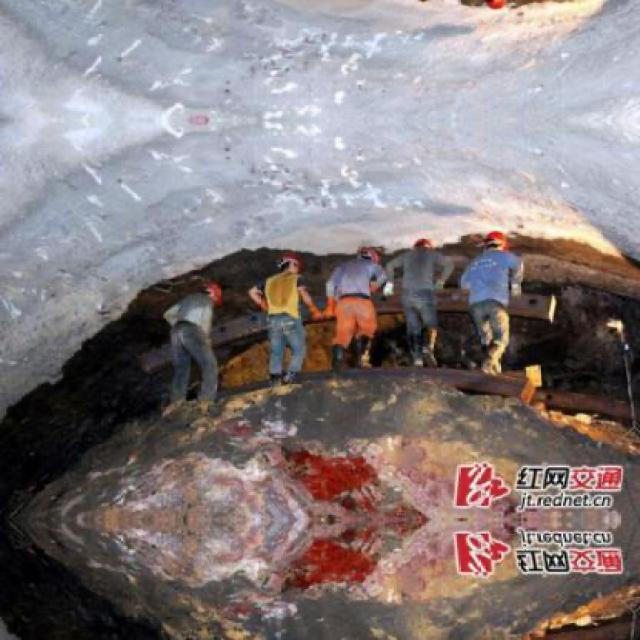helmet: (480, 226, 514, 256), (351, 244, 382, 268), (274, 250, 303, 274), (200, 280, 223, 306), (408, 232, 434, 252), (479, 0, 515, 12), (406, 0, 434, 6)
